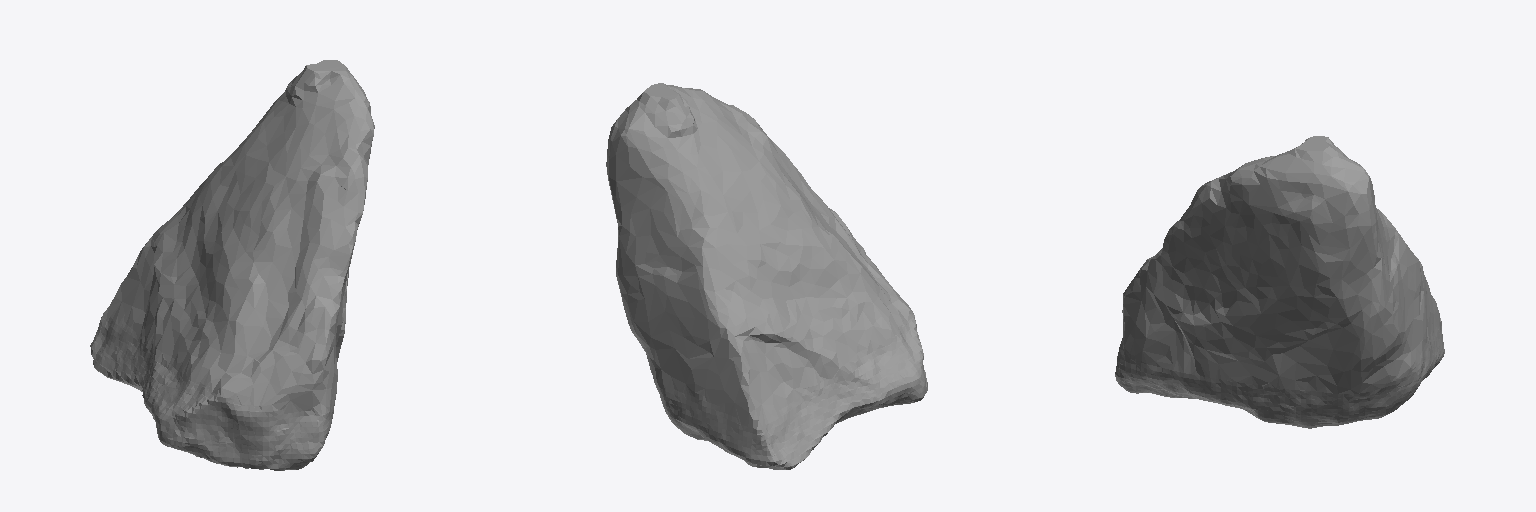
3 views of the same model, side by side, from view 1: azimuth 30°, elevation 25°; view 2: azimuth 150°, elevation 25°; view 3: azimuth 270°, elevation 25° (orthographic).
Parts seen in each view (by area): view 1: akshay; view 2: akshay; view 3: akshay.
Boxes of the visible parts, box(x1,y1,x2,y2) form: akshay: box(90, 60, 374, 470); akshay: box(606, 83, 927, 469); akshay: box(1115, 136, 1444, 428).
Bounding box in the file's own units: 0.67 × 0.79 × 0.76.